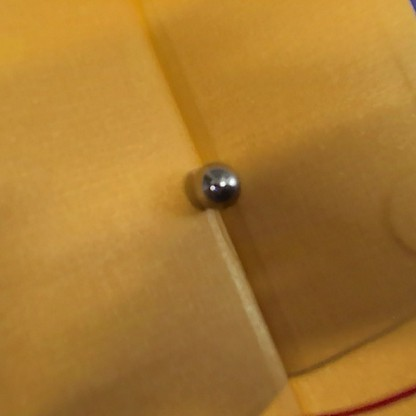ironball: (189, 160, 242, 210)
